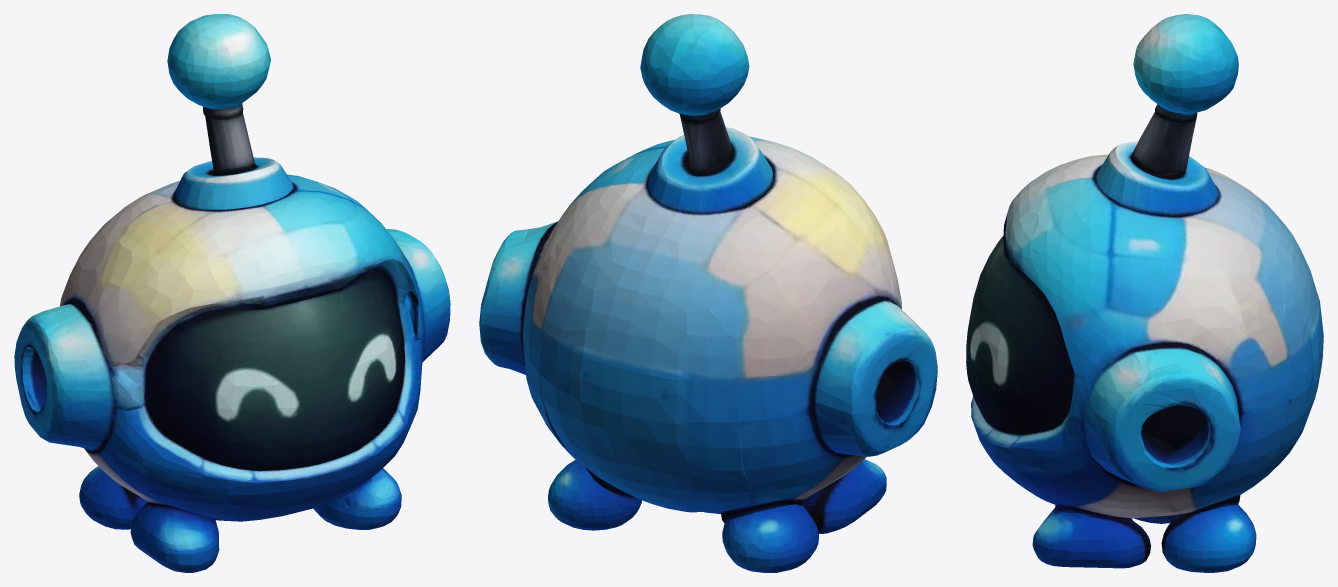
File: byte.glb
3 renders of one model, left to right at view 1: azimuth 30°, elevation 25°; view 2: azimuth 150°, elevation 25°; view 3: azimuth 270°, elevation 25°, orthographic. The views are drawn at different scales.
Parts seen in each view (by area): view 1: helper; view 2: helper; view 3: helper.
Part boxes in pixels (box(x1,y1,x2,y2)): helper: box(14, 14, 450, 572); helper: box(479, 14, 937, 572); helper: box(966, 14, 1323, 572).
Bounding box in the file's own units: 0.8425 × 1 × 0.646.
1 material, 1 textured.
